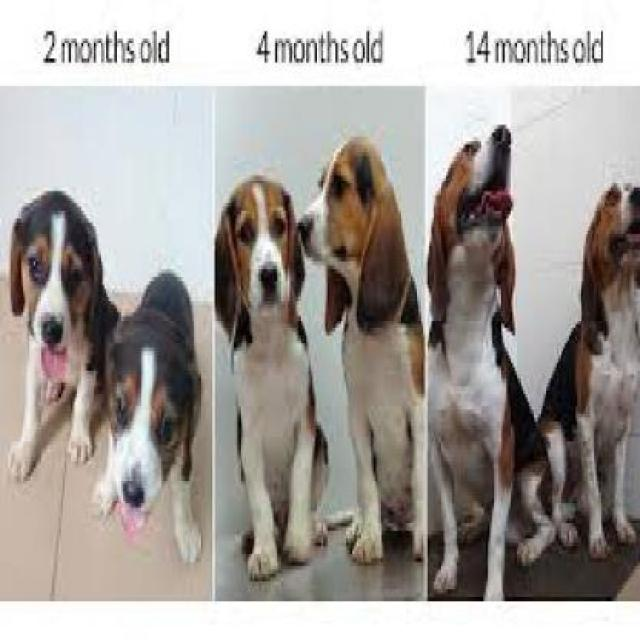Dog: (432, 121, 560, 597), (298, 134, 424, 574), (217, 172, 335, 588), (532, 164, 638, 562), (84, 266, 208, 577), (3, 180, 112, 520)
